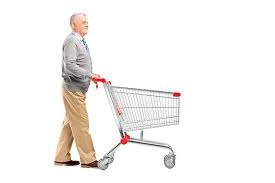with_basket: (95, 74, 181, 170)
without_mask: (70, 12, 89, 35)
